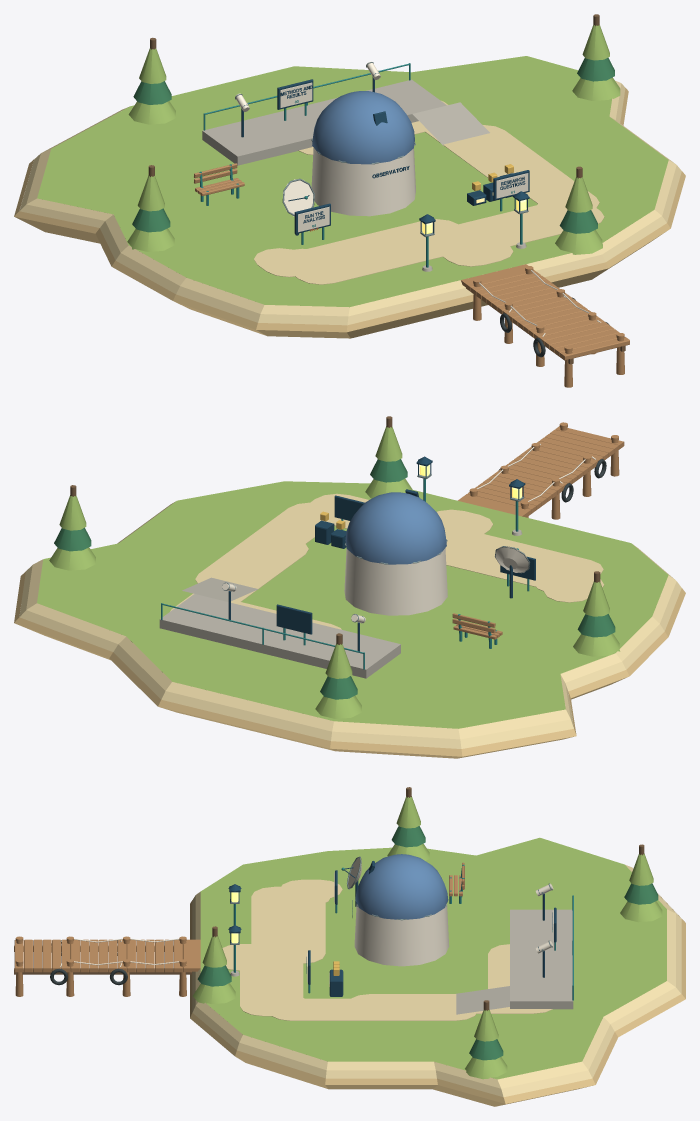
File: research.glb
3 views of the same model, one above another, from view 1: azimuth 30°, elevation 25°; view 2: azimuth 150°, elevation 25°; view 3: azimuth 270°, elevation 25° (orthographic). The views are drawn at different scales.
Parts seen in each view (by area): view 1: static_grass, static_sand, static_wood, static_sandEdge, static_stone, static_ivory, occluder_research_dome_blue, occluder_research_tree_16_grass, occluder_research_tree_12_grass, occluder_research_tree_4_grass, occluder_research_tree_8_grass, static_navy (+9 smaller); view 2: static_grass, static_sand, static_stone, static_wood, static_sandEdge, occluder_research_dome_blue, static_ivory, occluder_research_tree_4_grass, occluder_research_tree_8_grass, occluder_research_tree_12_grass, static_navy, occluder_research_tree_16_grass (+8 smaller); view 3: static_grass, static_sand, static_wood, static_stone, static_sandEdge, static_ivory, occluder_research_dome_blue, occluder_research_tree_12_grass, occluder_research_tree_16_grass, occluder_research_tree_8_grass, occluder_research_tree_4_grass, static_navy (+5 smaller).
Part boxes in pixels (box(x1,y1,x2,y2)): static_grass: box(37, 56, 668, 307); static_sand: box(19, 80, 681, 325); static_wood: box(194, 163, 629, 387); static_sandEdge: box(14, 88, 685, 338); static_stone: box(202, 79, 526, 271); static_ivory: box(235, 61, 601, 336); occluder_research_dome_blue: box(312, 91, 414, 164); occluder_research_tree_16_grass: box(555, 177, 602, 254); occluder_research_tree_12_grass: box(572, 24, 620, 100); occluder_research_tree_4_grass: box(127, 175, 174, 251); occluder_research_tree_8_grass: box(128, 48, 175, 124); static_navy: box(241, 73, 529, 235); static_grass: box(37, 481, 668, 728); static_sand: box(19, 493, 681, 748); static_stone: box(159, 529, 522, 678); static_wood: box(452, 422, 624, 639); static_sandEdge: box(14, 571, 685, 758); occluder_research_dome_blue: box(345, 492, 446, 564); static_ivory: box(222, 444, 595, 623); occluder_research_tree_4_grass: box(573, 581, 620, 656); occluder_research_tree_8_grass: box(315, 644, 361, 718); occluder_research_tree_12_grass: box(49, 495, 95, 570); static_navy: box(228, 456, 525, 651); occluder_research_tree_16_grass: box(365, 426, 412, 498); static_grass: box(200, 837, 666, 1079); static_sand: box(192, 864, 681, 1097); static_wood: box(14, 862, 464, 996); static_stone: box(230, 909, 573, 1014); static_sandEdge: box(190, 893, 685, 1106); static_ivory: box(60, 883, 553, 966); occluder_research_dome_blue: box(355, 854, 448, 919); occluder_research_tree_12_grass: box(465, 1010, 507, 1079); occluder_research_tree_16_grass: box(193, 935, 235, 1003); occluder_research_tree_8_grass: box(620, 853, 662, 922); occluder_research_tree_4_grass: box(387, 796, 429, 860); static_navy: box(228, 861, 544, 996).
Bounding box in the file's own units: 27 × 5.78 × 29.8.
